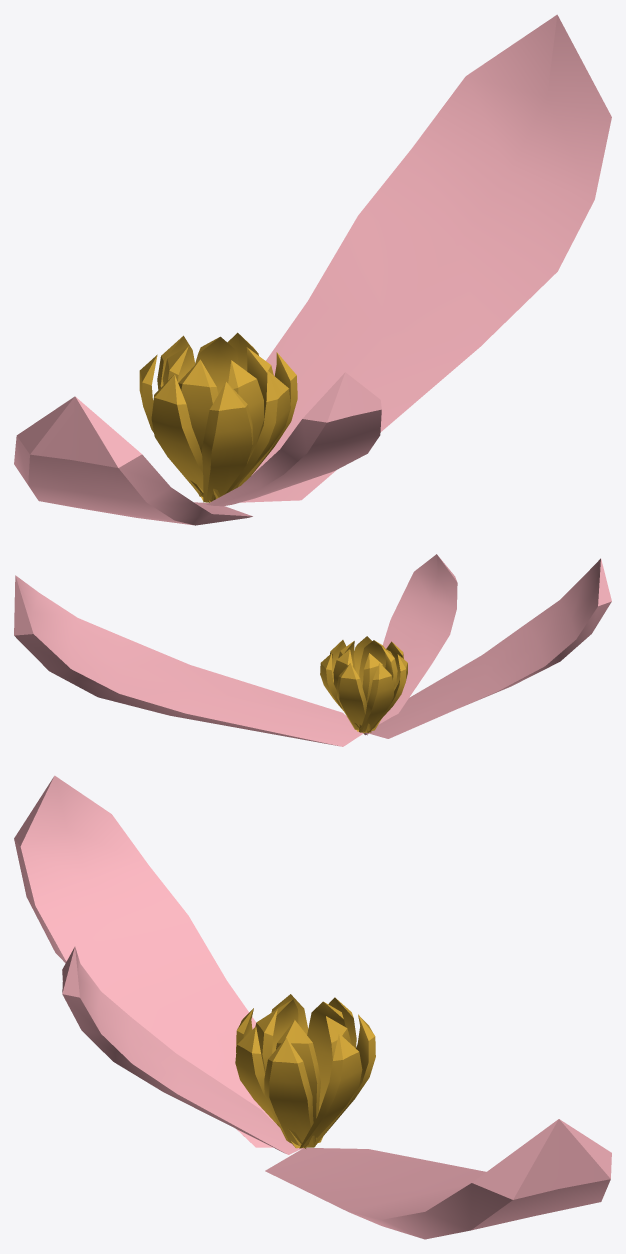
The model's file is Assets.fbx_Seerose.fbx.
3 views of the same model, one above another, from view 1: azimuth 30°, elevation 25°; view 2: azimuth 150°, elevation 25°; view 3: azimuth 270°, elevation 25° (orthographic). The views are drawn at different scales.
Parts seen in each view (by area): view 1: Blatt.008, Blatt.025, Blatt.026, Blatt.045, Blatt.044, Blatt.046, Blatt.038, Blatt.039, Blatt.036, Blatt.040, Blatt.043, Blatt.035 (+1 smaller); view 2: Blatt.008, Blatt.025, Blatt.026, Blatt.042, Blatt.043, Blatt.041, Blatt.039, Blatt.037, Blatt.044, Blatt.036, Blatt.045, Blatt.038 (+1 smaller); view 3: Blatt.025, Blatt.008, Blatt.026, Blatt.040, Blatt.041, Blatt.046, Blatt.037, Blatt.035, Blatt.042, Blatt.039, Blatt.038.
Boxes of the visible parts, box(x1,y1,x2,y2) form: Blatt.008: box(241, 14, 611, 502); Blatt.025: box(14, 396, 252, 525); Blatt.026: box(206, 372, 381, 506); Blatt.045: box(201, 382, 253, 502); Blatt.044: box(151, 374, 220, 498); Blatt.046: box(225, 371, 290, 494); Blatt.038: box(178, 359, 218, 496); Blatt.039: box(210, 360, 264, 501); Blatt.036: box(195, 336, 238, 394); Blatt.040: box(238, 352, 297, 486); Blatt.043: box(139, 354, 210, 502); Blatt.035: box(237, 347, 273, 487); Blatt.008: box(14, 575, 363, 746); Blatt.025: box(367, 558, 611, 738); Blatt.026: box(378, 554, 457, 724); Blatt.042: box(336, 663, 371, 732); Blatt.043: box(359, 663, 394, 732); Blatt.041: box(320, 653, 364, 733); Blatt.039: box(359, 640, 385, 686); Blatt.037: box(359, 653, 382, 731); Blatt.044: box(366, 654, 407, 732); Blatt.036: box(333, 649, 367, 732); Blatt.045: box(371, 641, 403, 730); Blatt.038: box(370, 647, 397, 731); Blatt.025: box(14, 775, 275, 1147); Blatt.008: box(265, 1119, 611, 1239); Blatt.026: box(62, 946, 302, 1154); Blatt.040: box(264, 1037, 315, 1147); Blatt.041: box(299, 1033, 362, 1148); Blatt.046: box(235, 1026, 305, 1148); Blatt.037: box(307, 1001, 345, 1142); Blatt.035: box(276, 1020, 320, 1141); Blatt.042: box(306, 1014, 375, 1147); Blatt.039: box(255, 1009, 303, 1148); Blatt.038: box(272, 999, 298, 1053).
Bounding box in the file's own units: 10.66 × 3.53 × 7.53.
